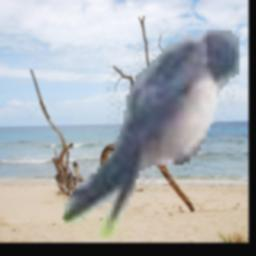Swallow: (62, 31, 238, 241)
